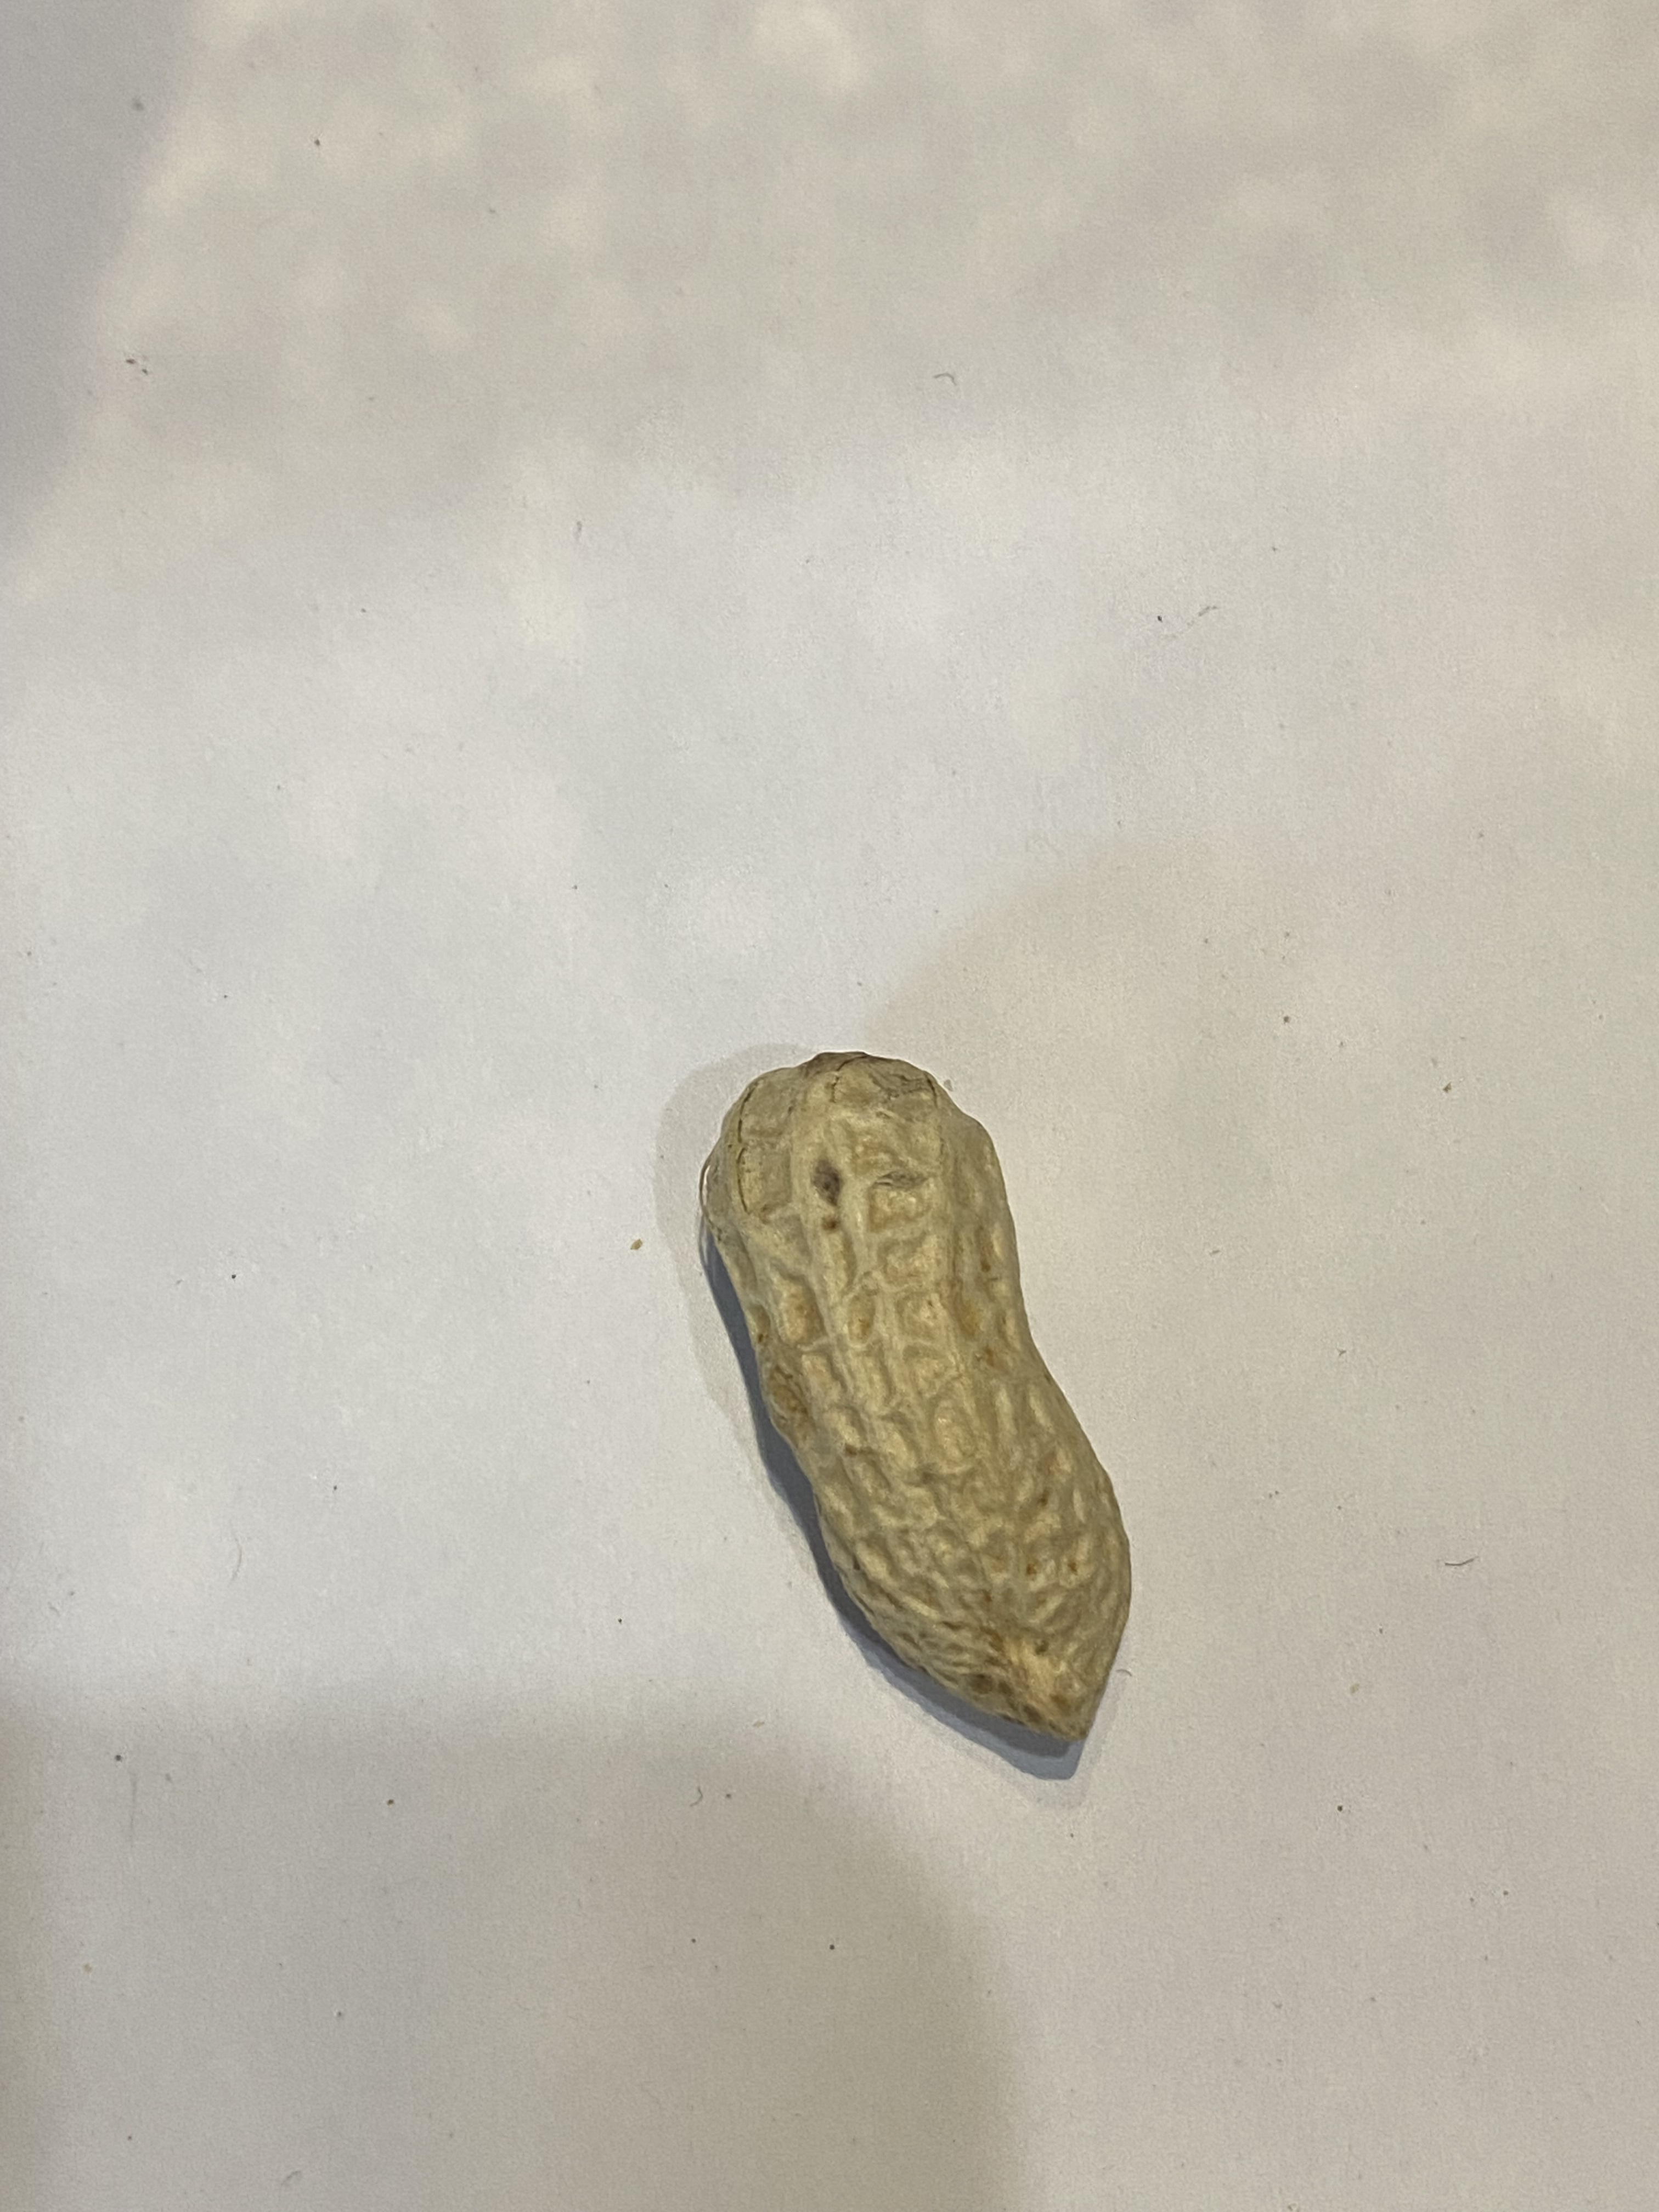kacang3: (694, 1043, 1201, 1750)
